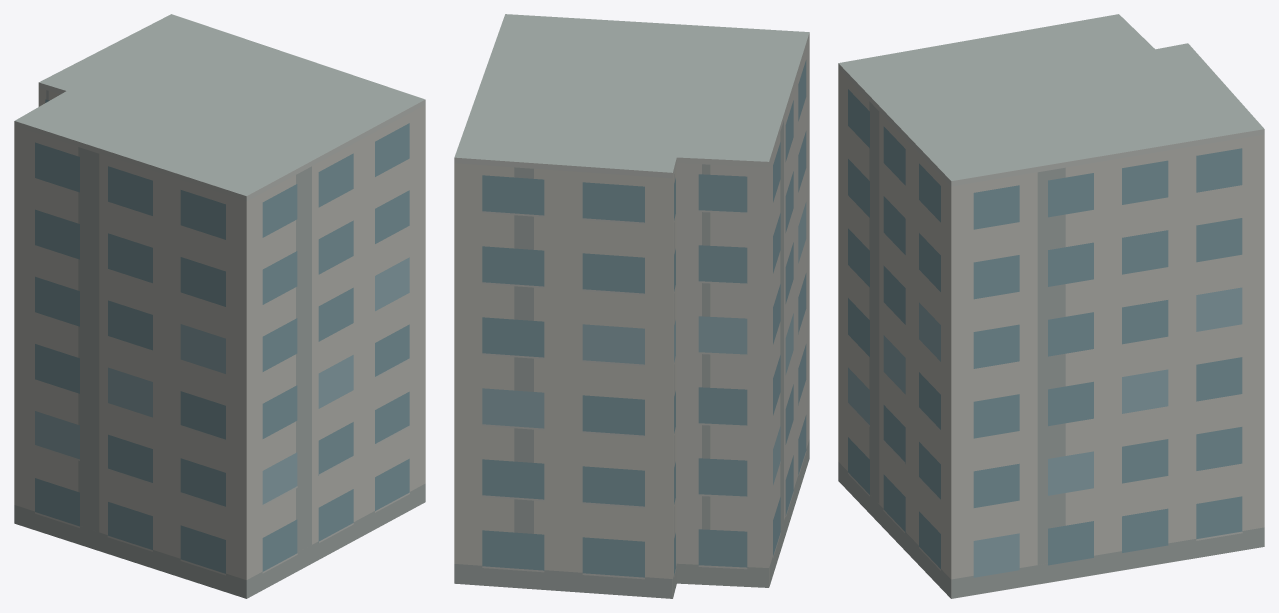
The model's file is survey-upis-32922436.glb.
3 views of the same model, side by side, from view 1: azimuth 30°, elevation 25°; view 2: azimuth 150°, elevation 25°; view 3: azimuth 270°, elevation 25° (orthographic). The views are drawn at different scales.
Parts seen in each view (by area): view 1: survey-upis-32922436.tmp; view 2: survey-upis-32922436.tmp; view 3: survey-upis-32922436.tmp.
Part boxes in pixels (box(x1,y1,x2,y2)): survey-upis-32922436.tmp: box(14, 14, 425, 598); survey-upis-32922436.tmp: box(454, 14, 809, 598); survey-upis-32922436.tmp: box(838, 14, 1264, 598).
Size of the model in its own units: 15.82 by 18.42 by 17.05.
